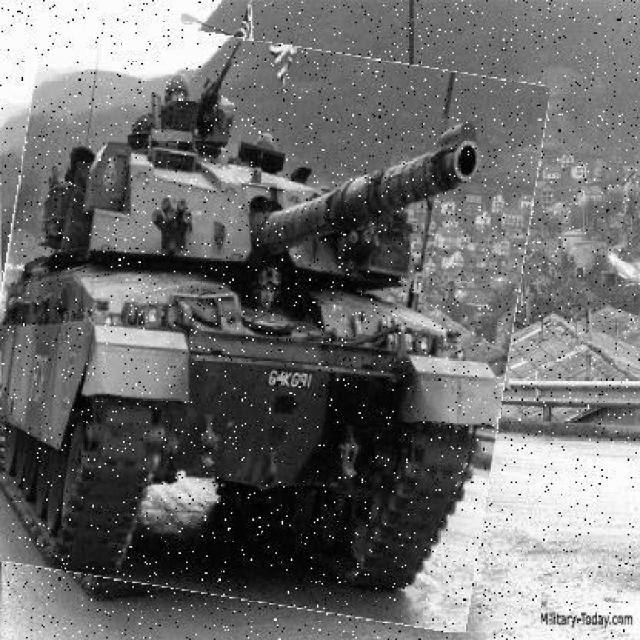Tank: (1, 27, 533, 618)
